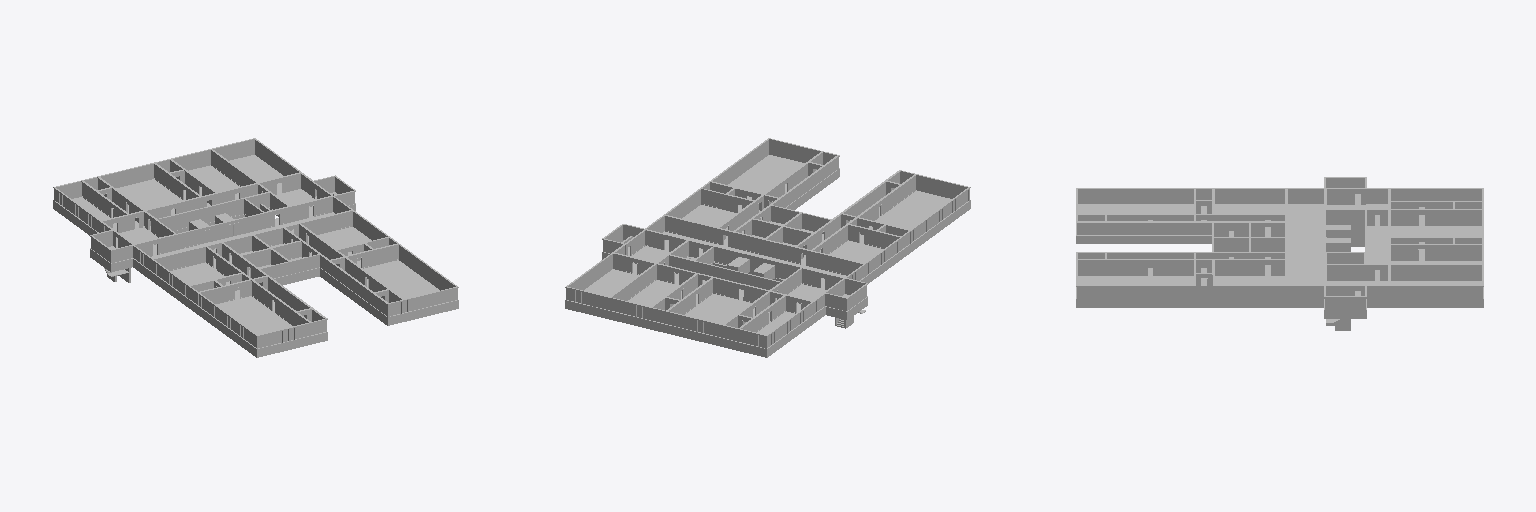
The model's file is floor.obj.
3 views of the same model, side by side, from view 1: azimuth 30°, elevation 25°; view 2: azimuth 150°, elevation 25°; view 3: azimuth 270°, elevation 25° (orthographic).
Parts seen in each view (by area): view 1: interior_walls_main_Untitled.005, floor_Untitled.018, buildingWalls_external_Untitled.034, windows_Untitled.006, roof_frame_Untitled.003, buildingWalls_internal_Untitled.026; view 2: interior_walls_main_Untitled.005, floor_Untitled.018, buildingWalls_external_Untitled.034, windows_Untitled.006, buildingWalls_internal_Untitled.026, roof_frame_Untitled.003, interior_walls_bottom_Untitled.008; view 3: interior_walls_main_Untitled.005, floor_Untitled.018, buildingWalls_external_Untitled.034, windows_Untitled.006, roof_frame_Untitled.003, buildingWalls_internal_Untitled.026, interior_walls_bottom_Untitled.008.
Part boxes in pixels (x1,y1,x2,y2): interior_walls_main_Untitled.005: (82,149,403,335); floor_Untitled.018: (72,155,439,334); buildingWalls_external_Untitled.034: (53,138,458,357); windows_Untitled.006: (56,140,455,347); roof_frame_Untitled.003: (81,149,404,322); buildingWalls_internal_Untitled.026: (56,139,455,321); interior_walls_main_Untitled.005: (610,152,915,341); floor_Untitled.018: (584,155,951,334); buildingWalls_external_Untitled.034: (565,138,970,357); windows_Untitled.006: (569,140,967,347); buildingWalls_internal_Untitled.026: (568,139,967,294); roof_frame_Untitled.003: (609,151,916,328); interior_walls_bottom_Untitled.008: (613,190,915,332); interior_walls_main_Untitled.005: (1078,188,1481,298); floor_Untitled.018: (1078,194,1481,295); buildingWalls_external_Untitled.034: (1076,177,1483,318); windows_Untitled.006: (1079,189,1479,298); roof_frame_Untitled.003: (1077,188,1482,286); buildingWalls_internal_Untitled.026: (1078,178,1481,267); interior_walls_bottom_Untitled.008: (1078,204,1481,280).
Size of the model in its own units: 62.17 by 9.16 by 89.32.